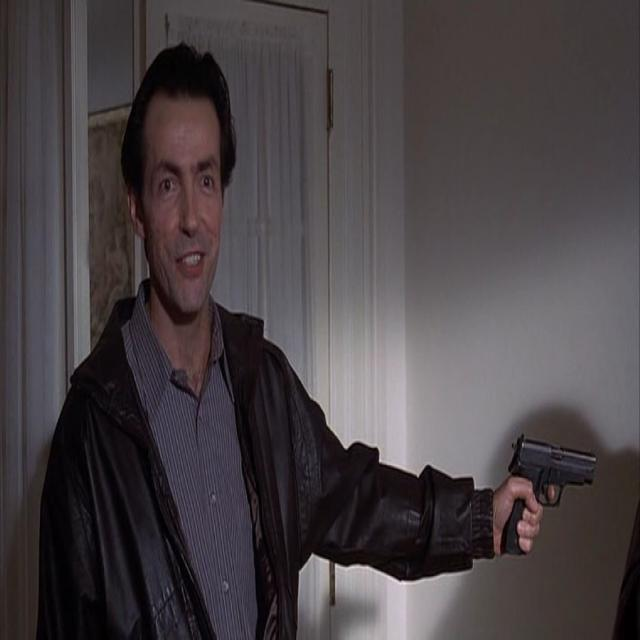gun-knife-thesis - v11 Yolov5 augmented: (496, 434, 599, 557)
